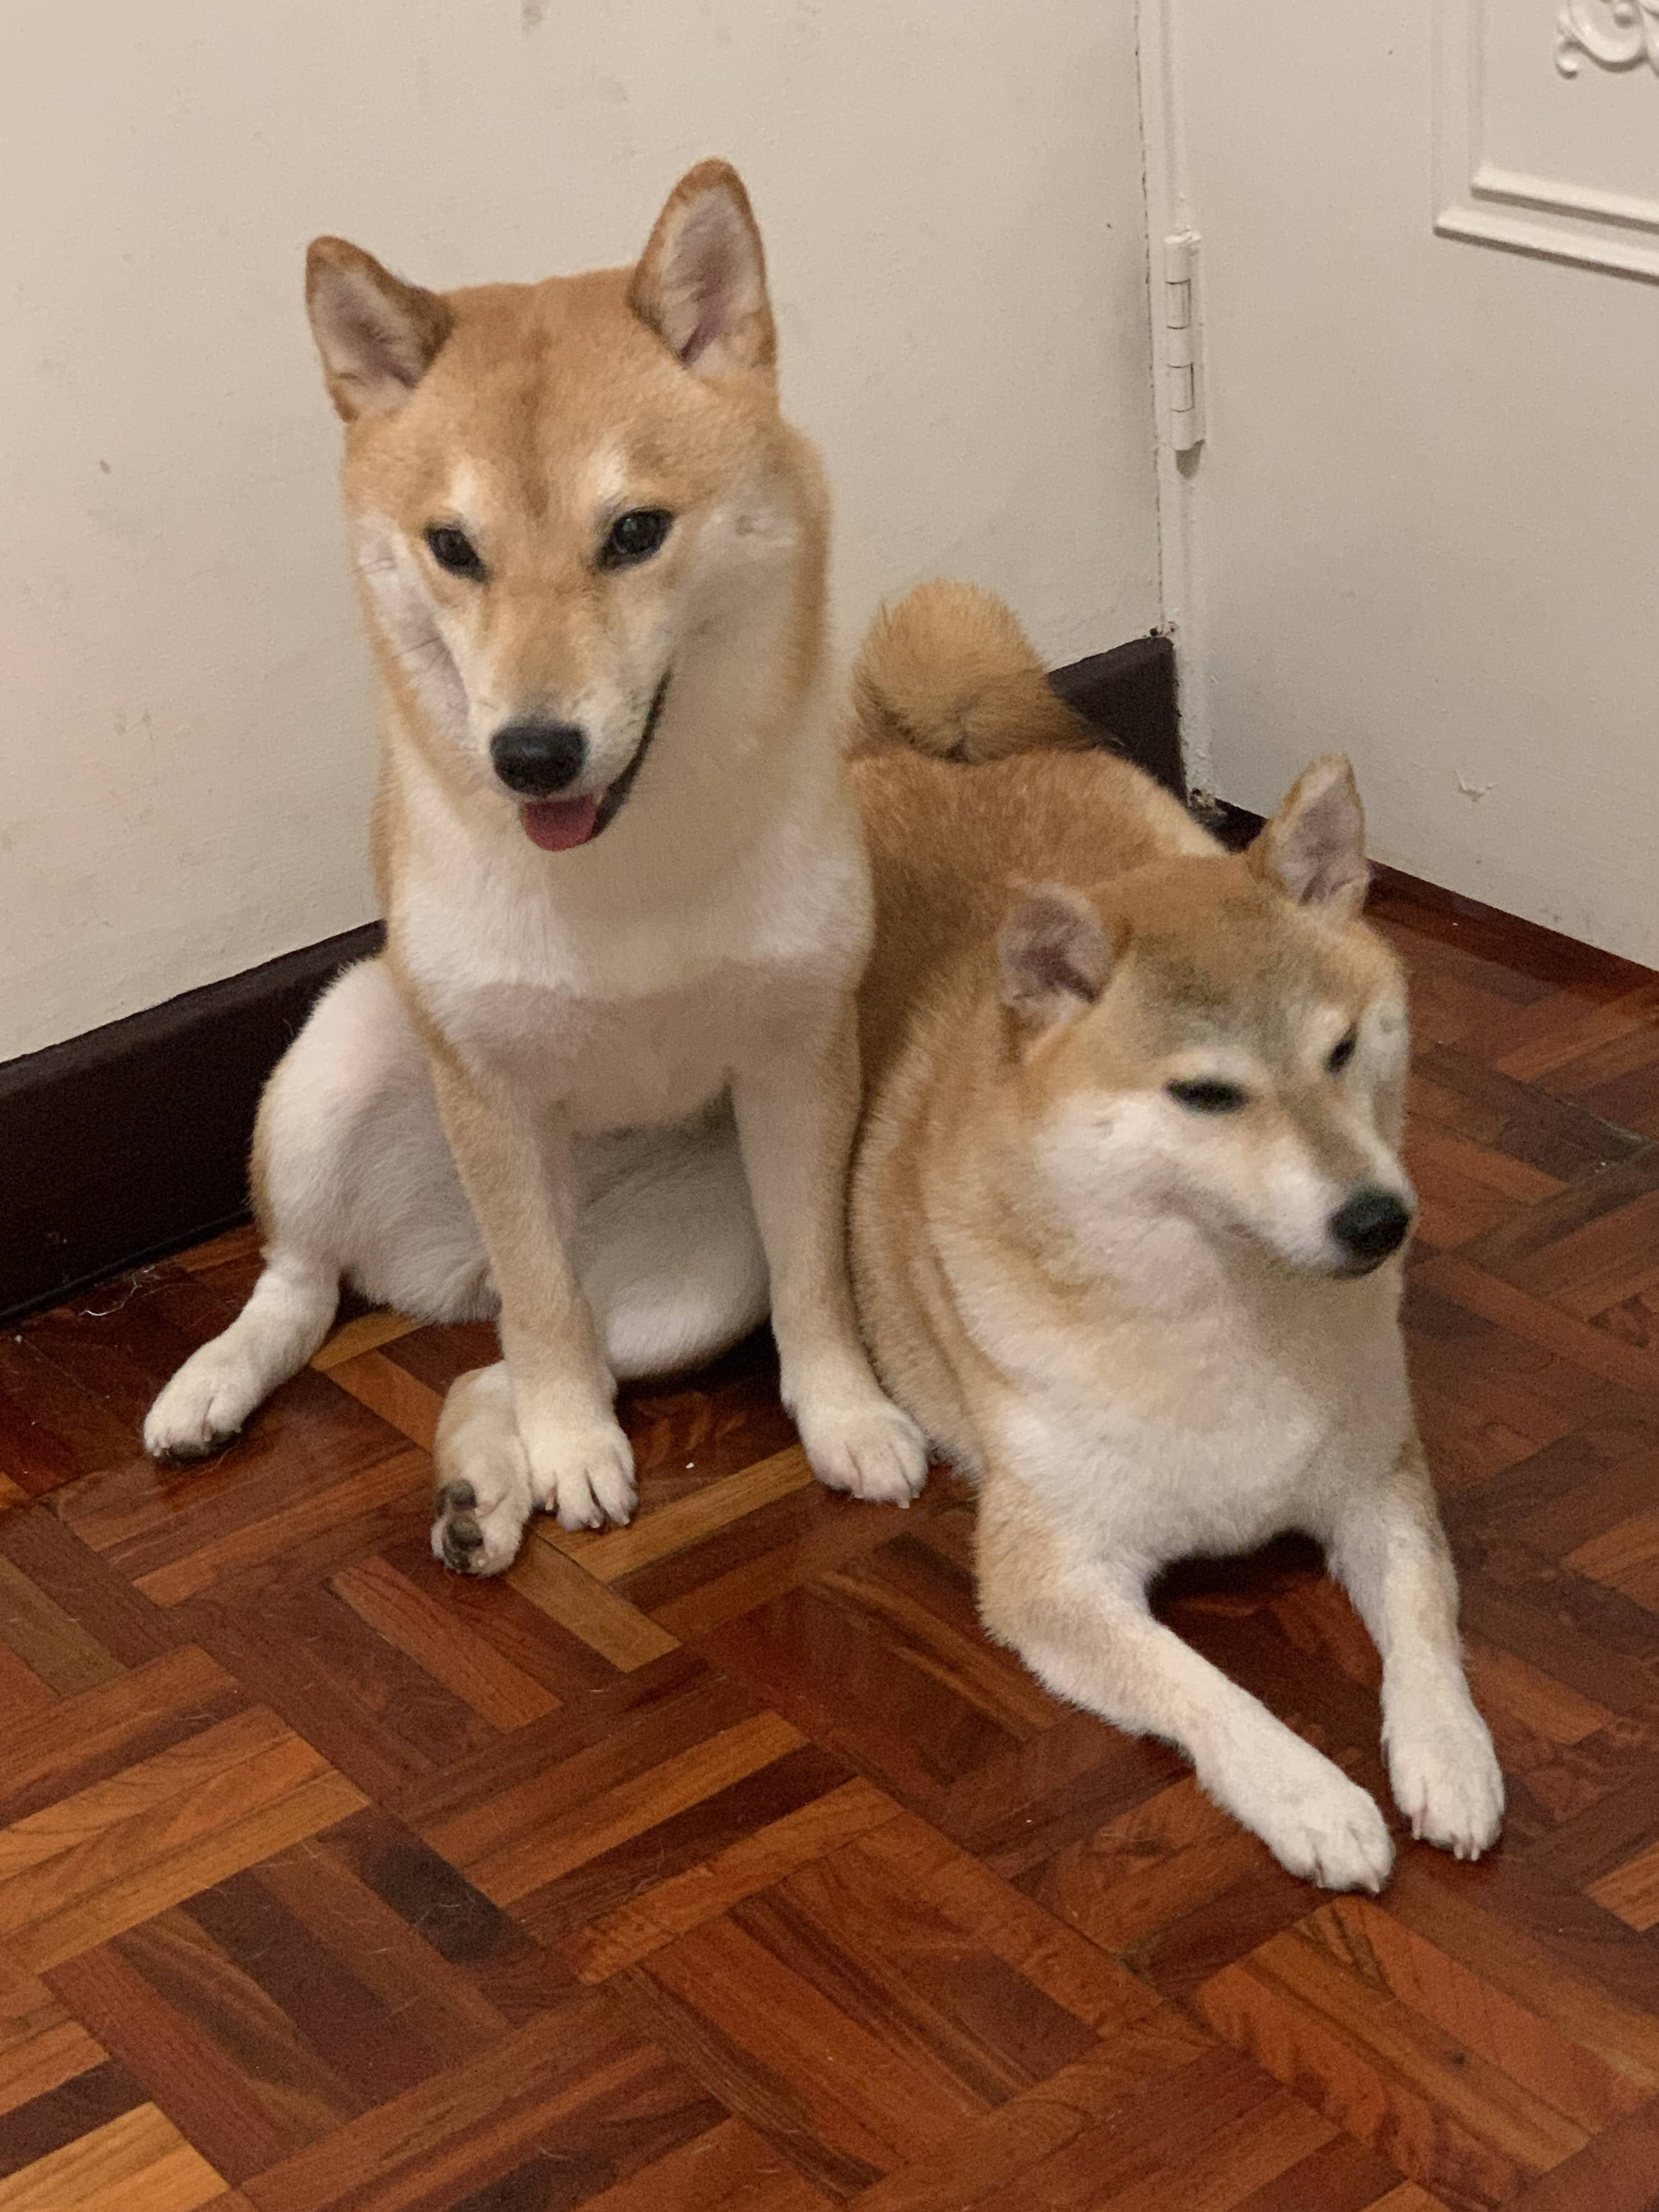Lie down: (840, 604, 1567, 1919)
Sit down: (220, 197, 913, 1616)
